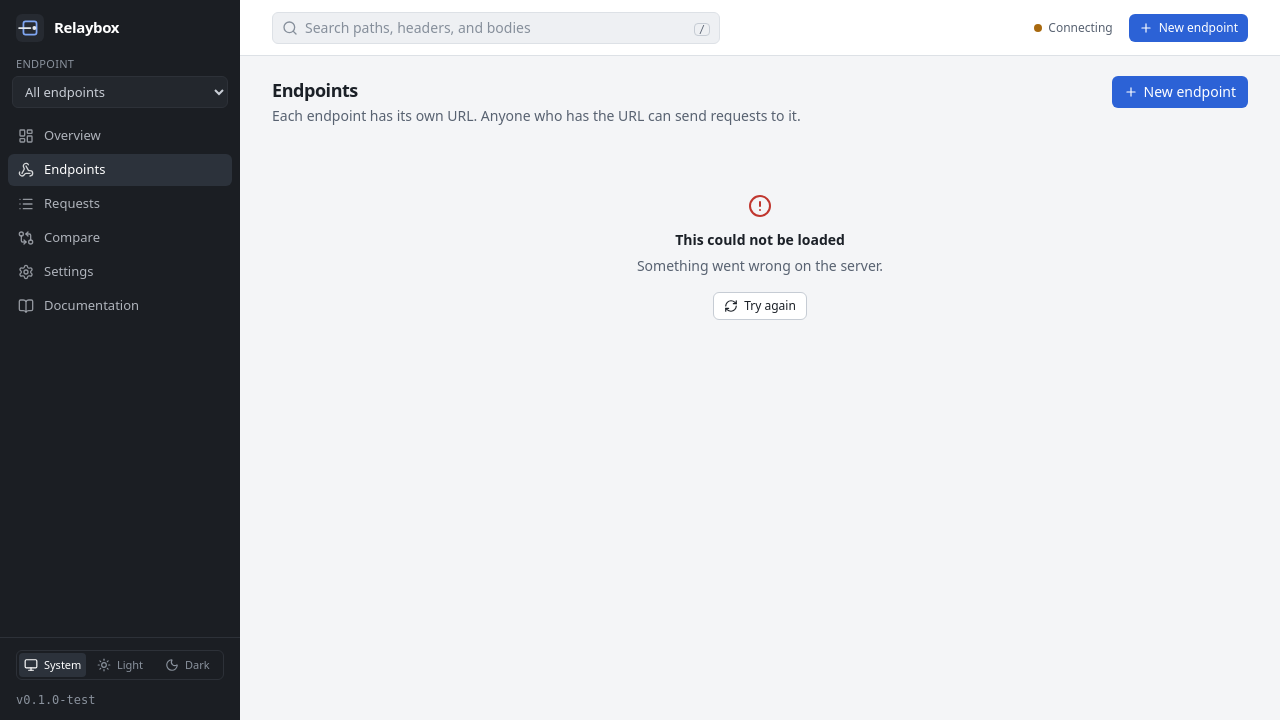
Test: Endpoints page › shows an error state with retry when loading fails
Expected: the text "Something went wrong on the server." is shown, [637,256,883,276]
Click the button "Try again": (760, 306) [713,292,807,320]
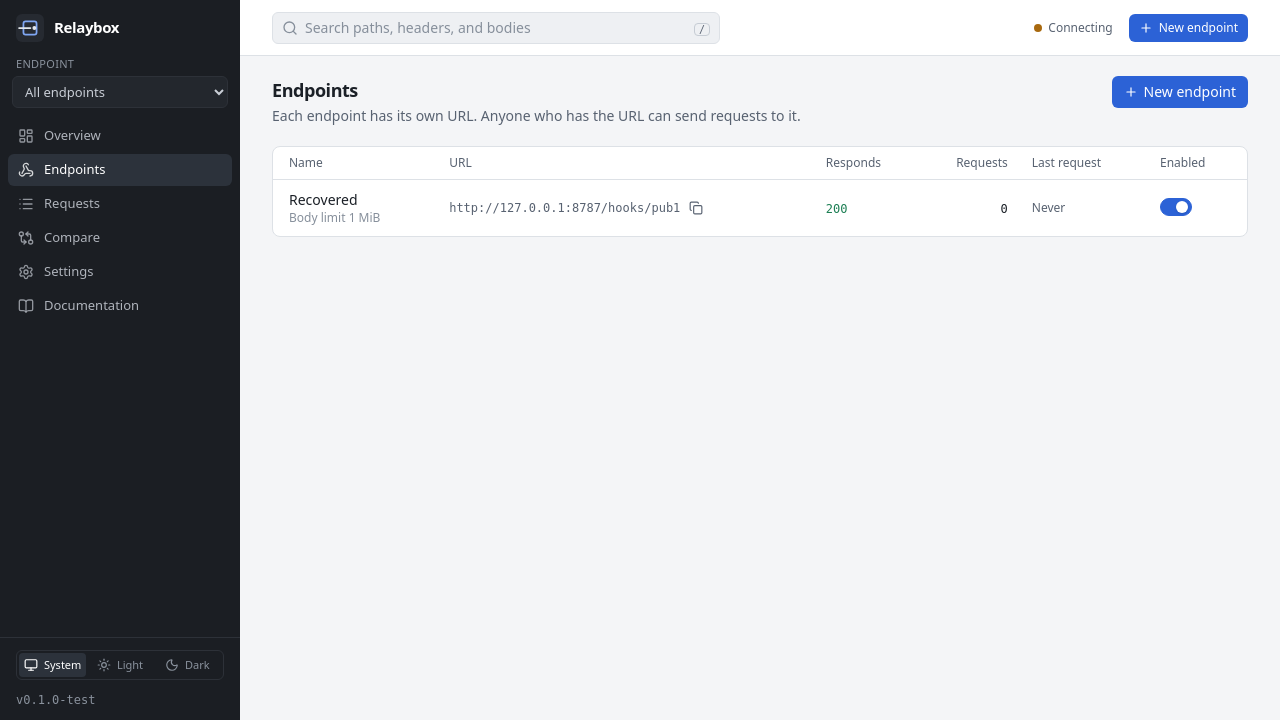
Now the link "Recovered" is shown, box [289,190,358,209]
